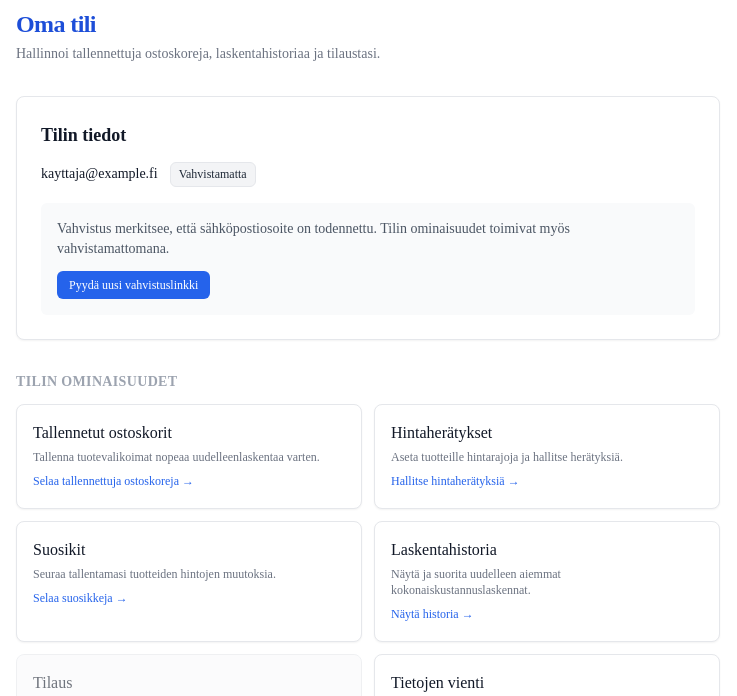
Scenario: AccountPage › surfaces a resend failure without leaving the page
The width and height of the screenshot is (737, 696).
Click the button with test id "account-resend-verification" at [134, 285], box [57, 271, 210, 299]
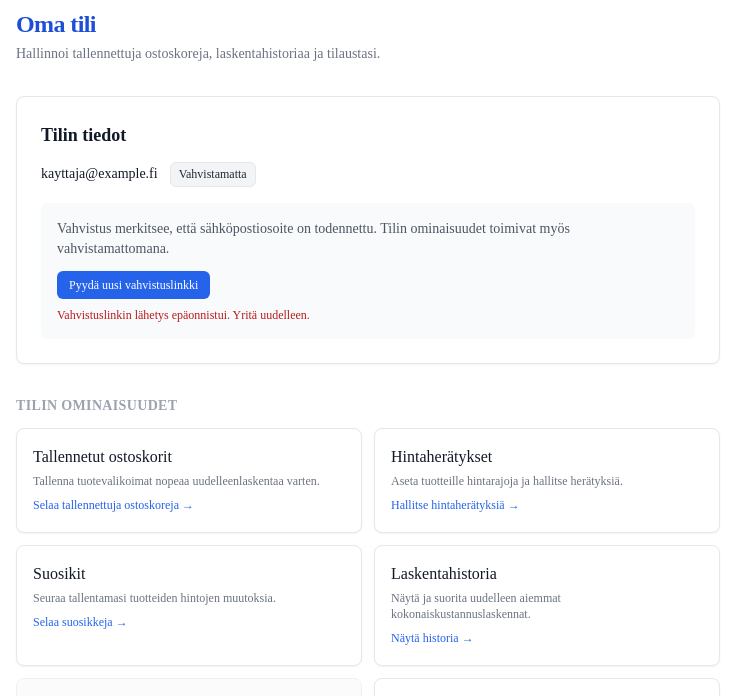
Check: the message "Vahvistuslinkin lähetys epäonnistui. Yritä uudelleen." is shown, box [57, 308, 310, 322]
